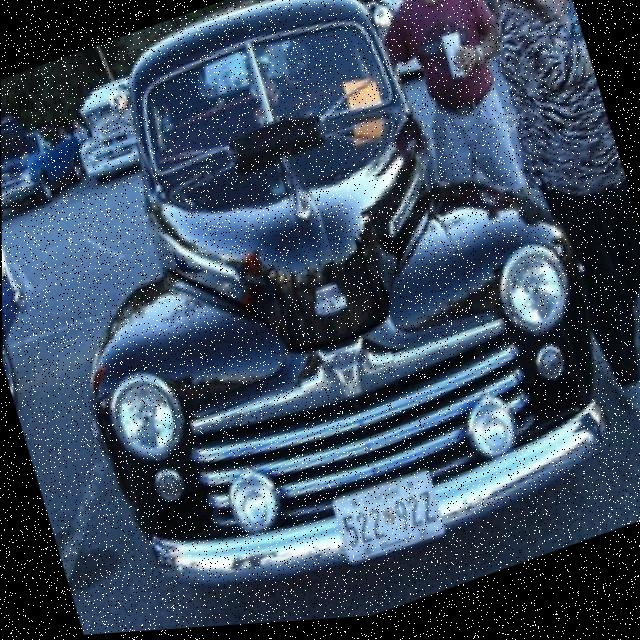license_plate: (325, 470, 442, 572)
